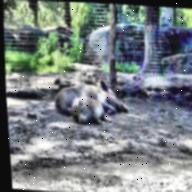boar: (43, 76, 122, 112)
